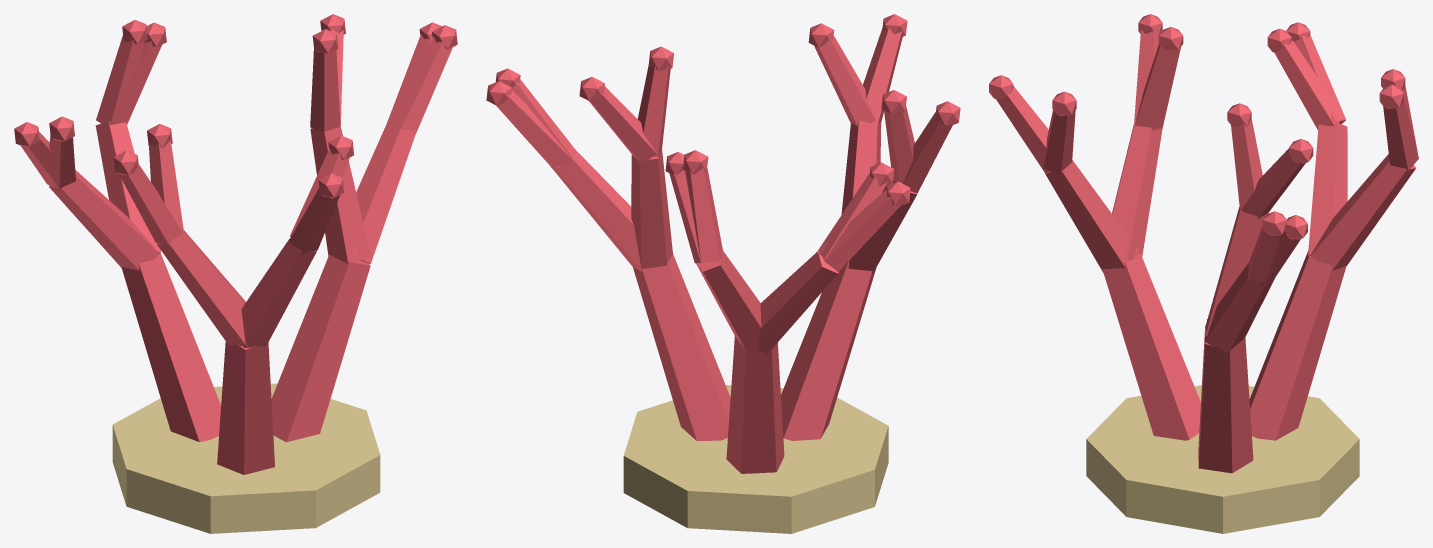
The model's file is coral_branch.glb.
3 renders of one model, left to right at view 1: azimuth 30°, elevation 25°; view 2: azimuth 150°, elevation 25°; view 3: azimuth 270°, elevation 25°, orthographic.
Parts seen in each view (by area): view 1: coral_branch; view 2: coral_branch; view 3: coral_branch.
Boxes of the visible parts, box(x1,y1,x2,y2) form: coral_branch: box(14, 14, 457, 533); coral_branch: box(486, 14, 960, 533); coral_branch: box(989, 14, 1418, 533).
Bounding box in the file's own units: 0.7142 × 0.6703 × 0.6292.
